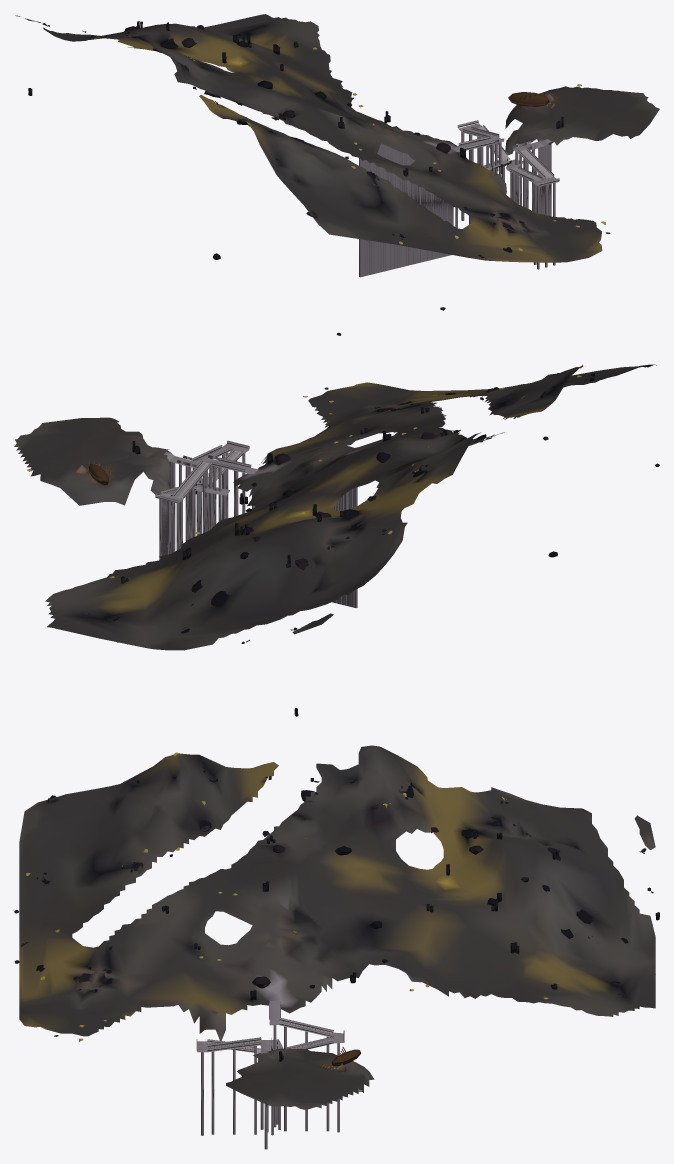
Rendered from ash_isl_ember_wreck_lod1.glb.
The picture shows the model from 3 angles, top to bottom: view 1: azimuth 30°, elevation 25°; view 2: azimuth 150°, elevation 25°; view 3: azimuth 270°, elevation 25°; orthographic projection. The views are drawn at different scales.
Parts seen in each view (by area): view 1: ash_isl_ember_wreck_lod1; view 2: ash_isl_ember_wreck_lod1; view 3: ash_isl_ember_wreck_lod1.
Boxes of the visible parts, left/top/right/bottom form: ash_isl_ember_wreck_lod1: left=15, top=14, right=659, bottom=335; ash_isl_ember_wreck_lod1: left=14, top=364, right=659, bottom=716; ash_isl_ember_wreck_lod1: left=14, top=745, right=659, bottom=1149.
Bounding box in the file's own units: 203 × 97.85 × 244.
